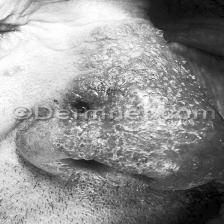Toxin: (61, 96, 100, 114)
